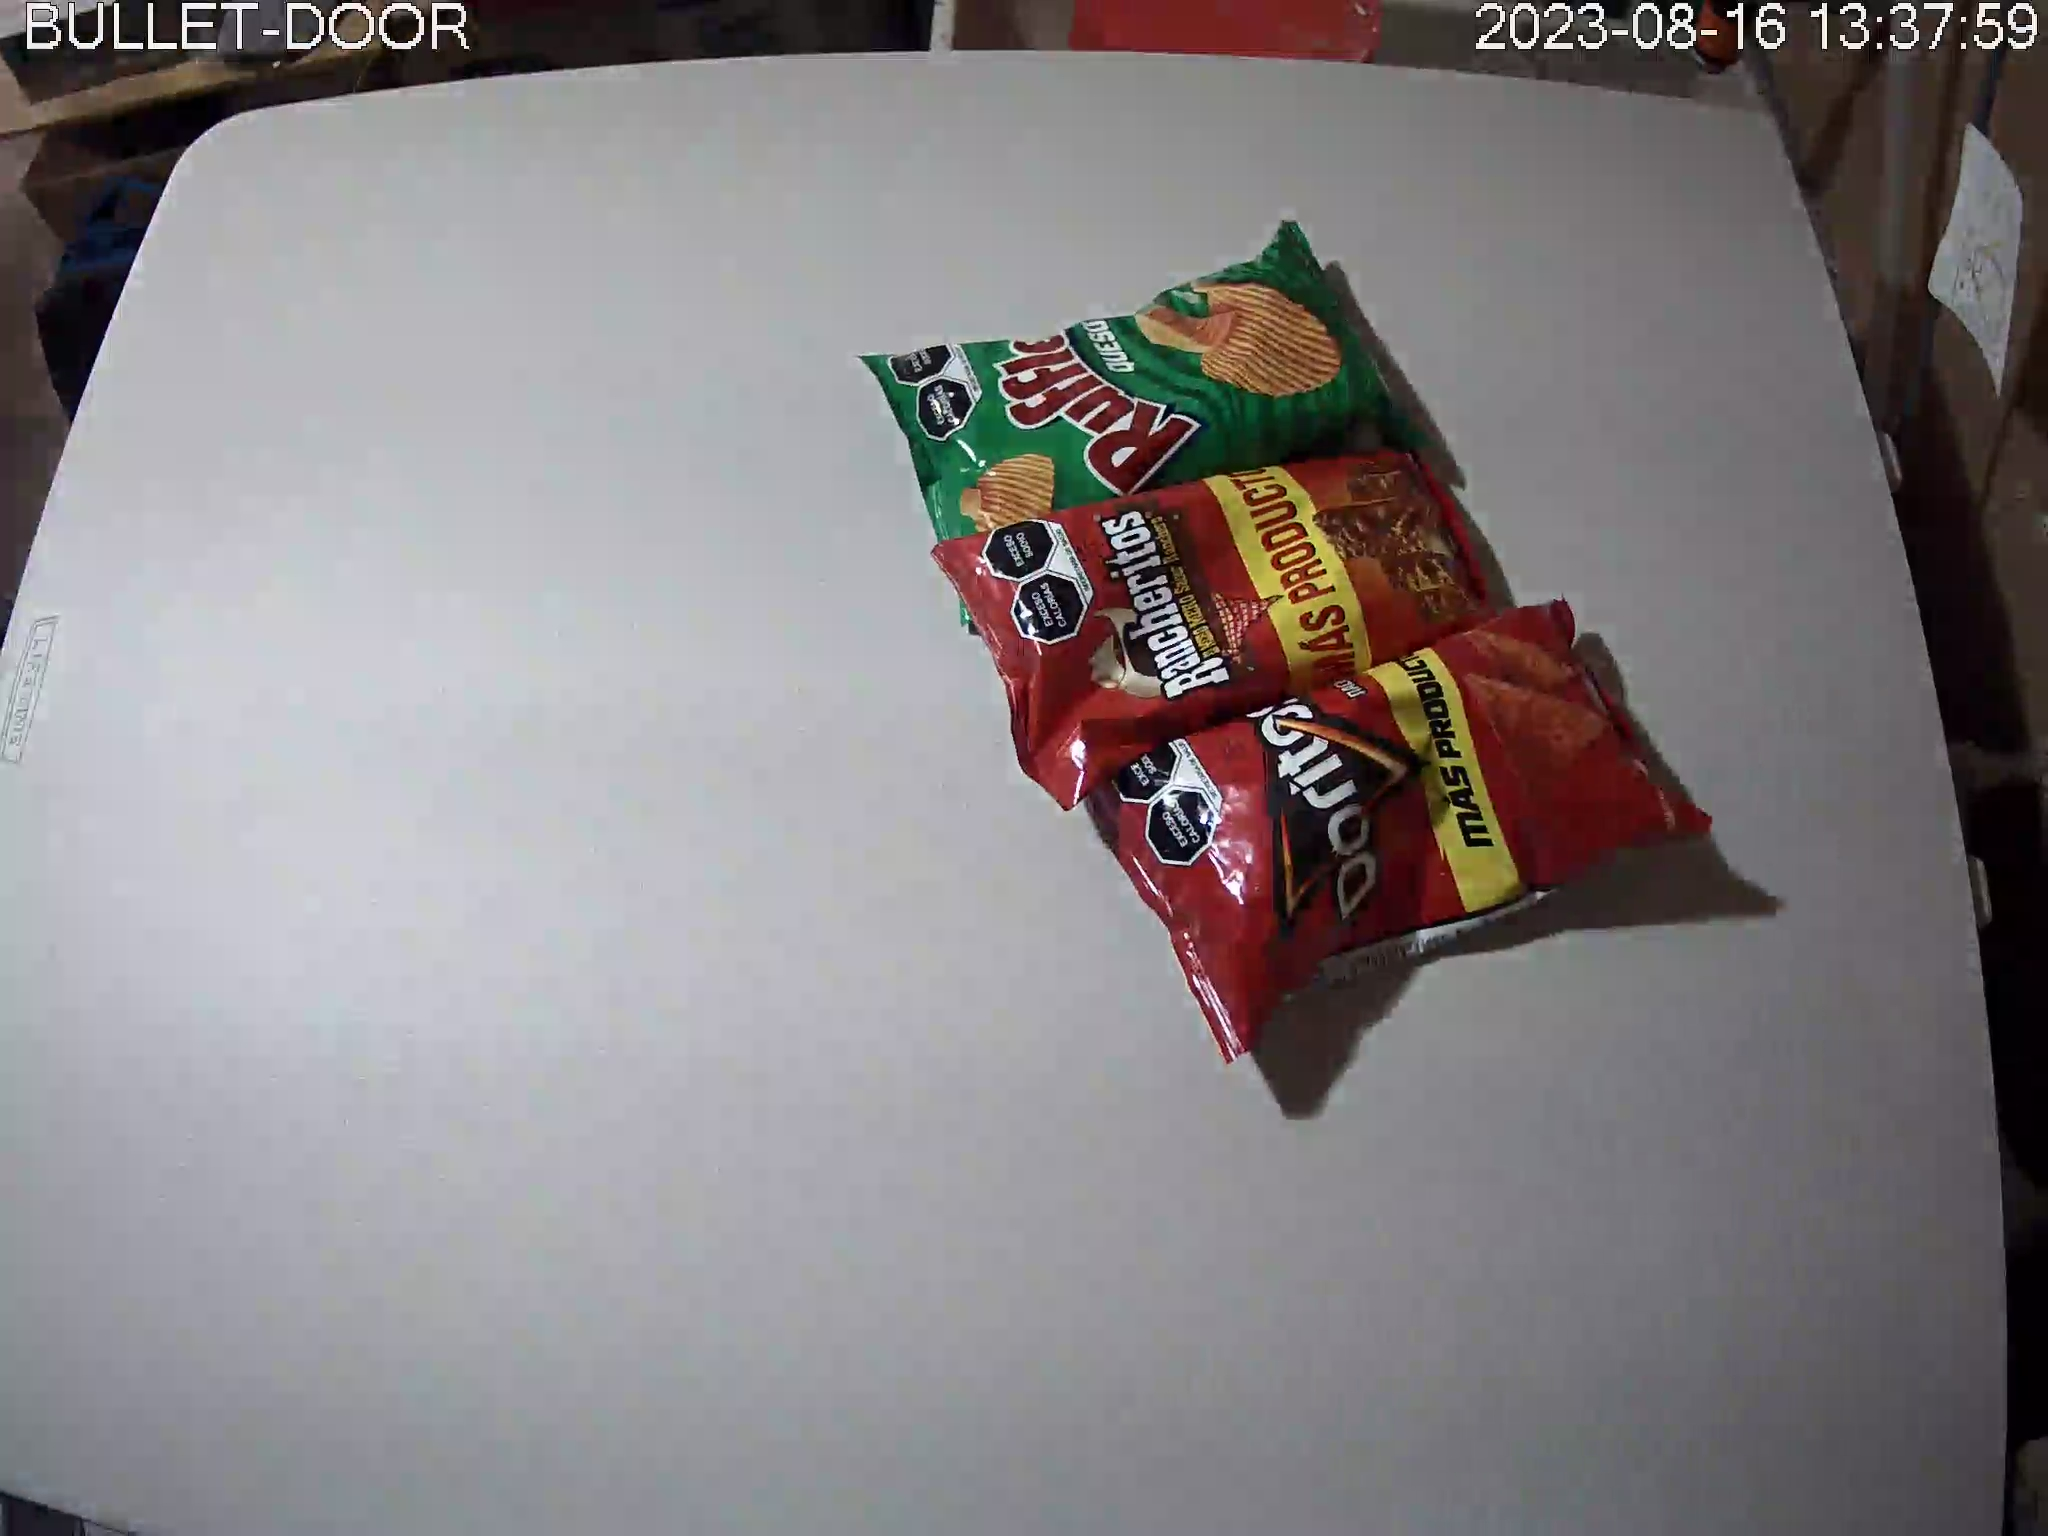DoritosN_61_F: (1080, 594, 1713, 1065)
Rancheritos_58_F: (932, 445, 1517, 808)
RufflesQ_48_F: (855, 218, 1442, 629)
